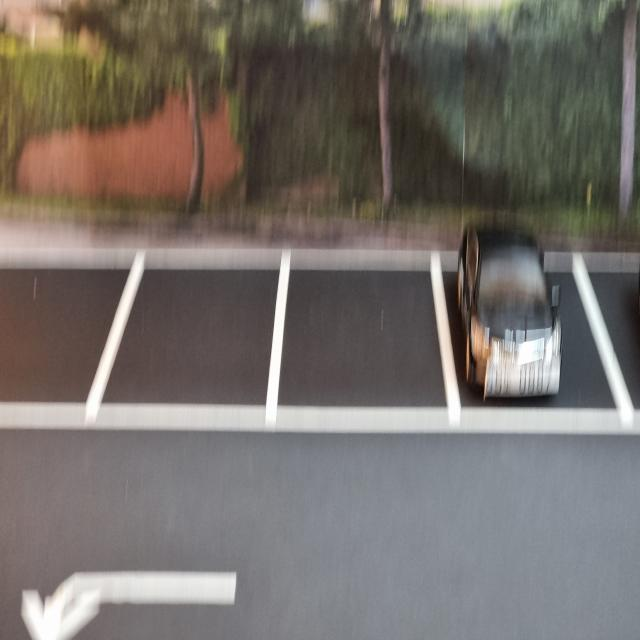empty: (270, 251, 460, 437), (120, 244, 290, 439), (0, 248, 135, 437)
occupied: (445, 218, 579, 408)
